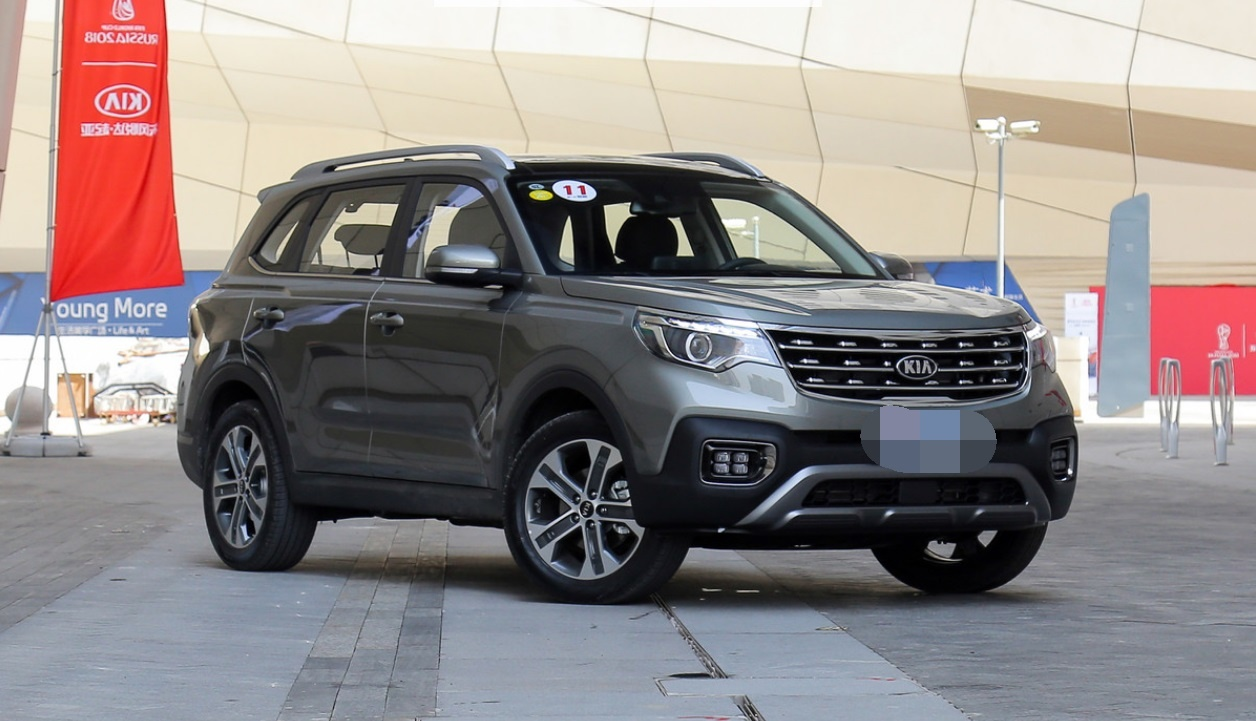SUV: (172, 145, 1097, 616)
